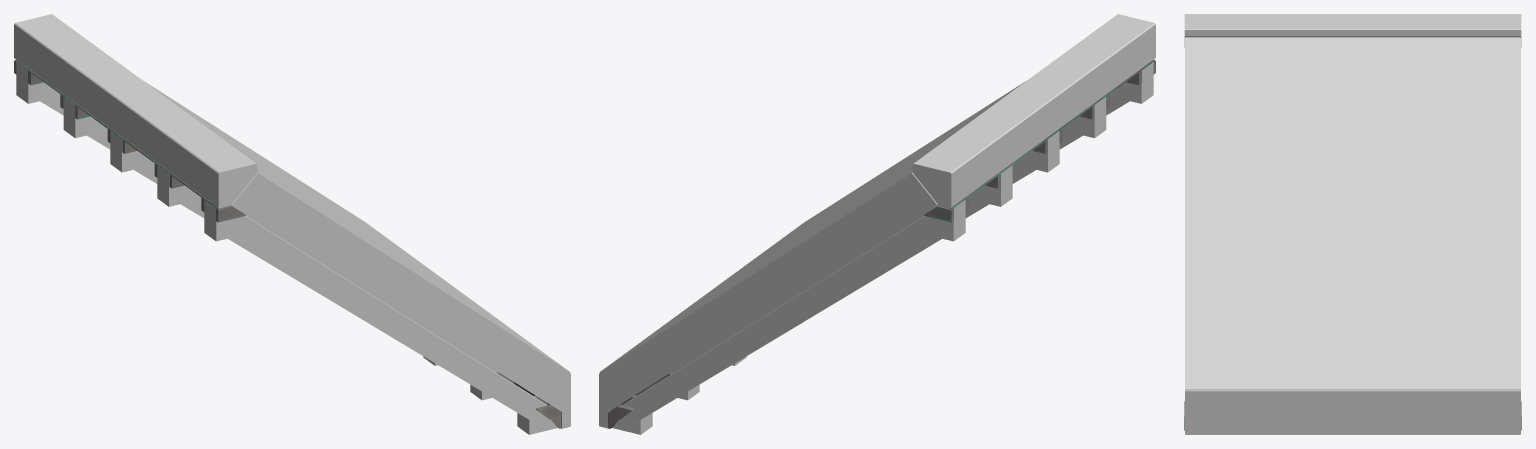
File: SM_RoofB_Glass_b72f1b.glb
3 views of the same model, side by side, from view 1: azimuth 30°, elevation 25°; view 2: azimuth 150°, elevation 25°; view 3: azimuth 270°, elevation 25° (orthographic). The views are drawn at different scales.
Size of the model in its own units: 3.97 by 3.66 by 4.
2 materials, 1 textured.
